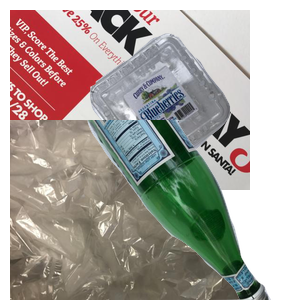glass: (75, 120, 300, 300)
paper: (10, 10, 250, 190)
plastic: (88, 31, 300, 198)
trash: (10, 120, 244, 300)
